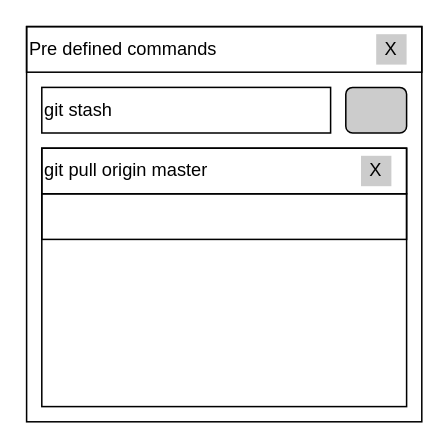
Some shapes in this 448 by 448 pixel diagram are drawn without their labels. Each missing label, with the centre of its shape:
"git branch" belongs at point (223, 215).
"Save" belongs at point (375, 109).
